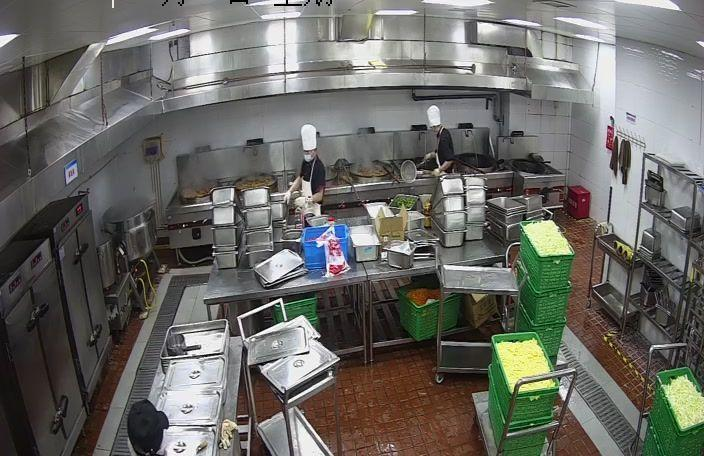apron: (283, 189, 292, 202), (297, 196, 306, 206)
mask: (303, 150, 315, 162)
